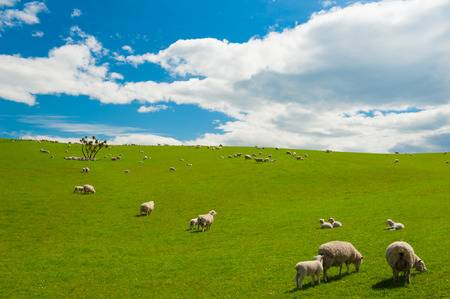sheep: (385, 240, 429, 283), (321, 239, 366, 274), (293, 253, 324, 288), (198, 208, 218, 230), (385, 215, 405, 233), (139, 199, 155, 213), (187, 213, 199, 230), (81, 183, 96, 196), (328, 215, 343, 228), (317, 215, 330, 228), (72, 183, 83, 193), (167, 165, 177, 174), (121, 167, 130, 175)
